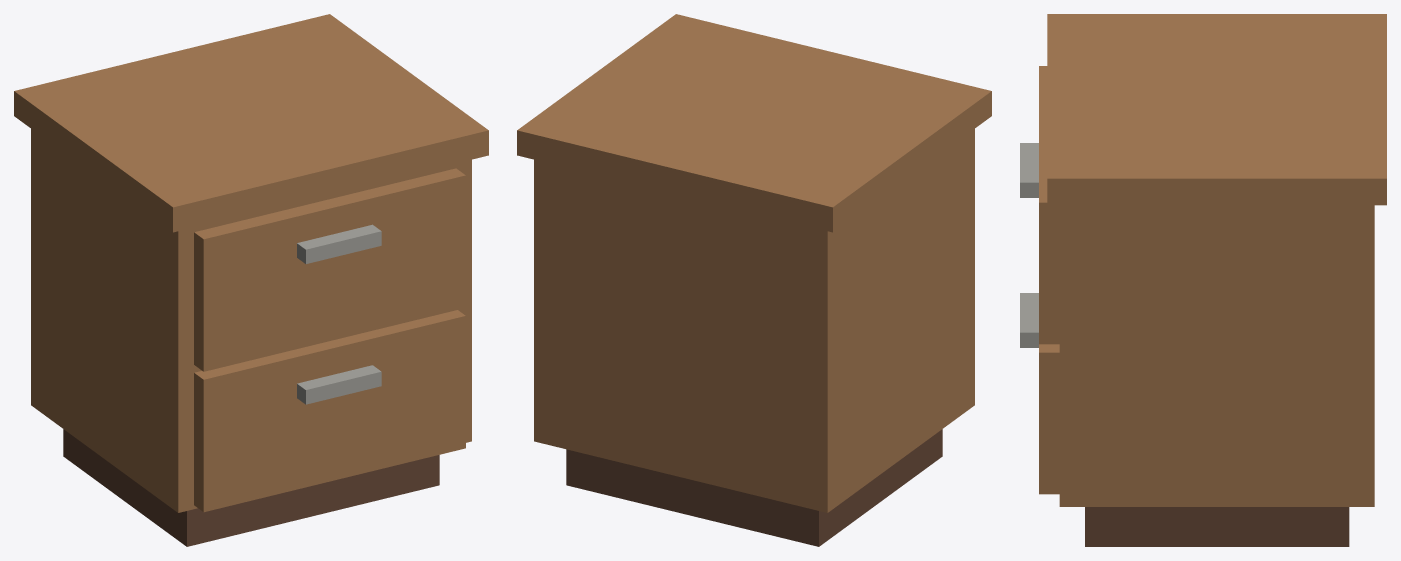
The model's file is nightstand.glb.
The picture shows the model from 3 angles, left to right: view 1: azimuth 30°, elevation 25°; view 2: azimuth 150°, elevation 25°; view 3: azimuth 270°, elevation 25°; orthographic projection. The views are drawn at different scales.
Visible parts, largest first — view 1: Top, Cabinet, Drawer.001, Drawer, Base, Pull, Pull.001; view 2: Cabinet, Top, Base; view 3: Cabinet, Top, Base, Drawer.001, Drawer, Pull, Pull.001.
Boxes of the visible parts, x1=… form: Top: x1=14, y1=14, x2=488, y2=232; Cabinet: x1=31, y1=129, x2=471, y2=512; Drawer.001: x1=194, y1=168, x2=465, y2=371; Drawer: x1=194, y1=310, x2=465, y2=512; Base: x1=63, y1=429, x2=439, y2=546; Pull: x1=297, y1=365, x2=381, y2=404; Pull.001: x1=297, y1=224, x2=381, y2=263; Cabinet: x1=534, y1=129, x2=974, y2=512; Top: x1=517, y1=14, x2=991, y2=232; Base: x1=566, y1=429, x2=942, y2=546; Cabinet: x1=1059, y1=205, x2=1374, y2=506; Top: x1=1047, y1=14, x2=1386, y2=205; Base: x1=1085, y1=507, x2=1349, y2=546; Drawer.001: x1=1039, y1=66, x2=1059, y2=344; Drawer: x1=1039, y1=344, x2=1059, y2=494; Pull: x1=1020, y1=293, x2=1038, y2=347; Pull.001: x1=1020, y1=143, x2=1038, y2=197.
Bounding box in the file's own units: 0.5 × 0.545 × 0.471.
